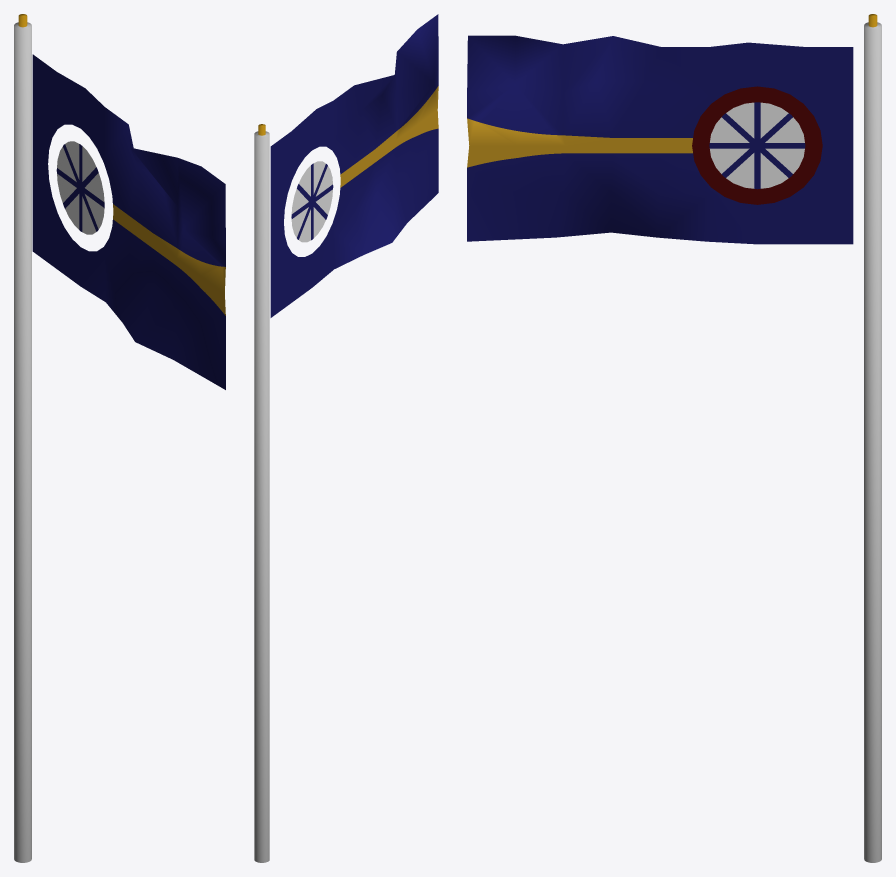
3 views of the same model, side by side, from view 1: azimuth 30°, elevation 25°; view 2: azimuth 150°, elevation 25°; view 3: azimuth 270°, elevation 25° (orthographic). The views are drawn at different scales.
Parts seen in each view (by area): view 1: Group_001, Layer0_001; view 2: Group_001, Layer0_001; view 3: Group_001, Layer0_001.
Boxes of the visible parts, <box> form: Group_001: <box>32,54,225,389</box>; Layer0_001: <box>14,14,31,862</box>; Group_001: <box>270,14,438,317</box>; Layer0_001: <box>254,124,269,862</box>; Group_001: <box>467,35,853,244</box>; Layer0_001: <box>864,14,881,862</box>.
Size of the model in its own units: 3.5 by 92.94 by 41.43.
